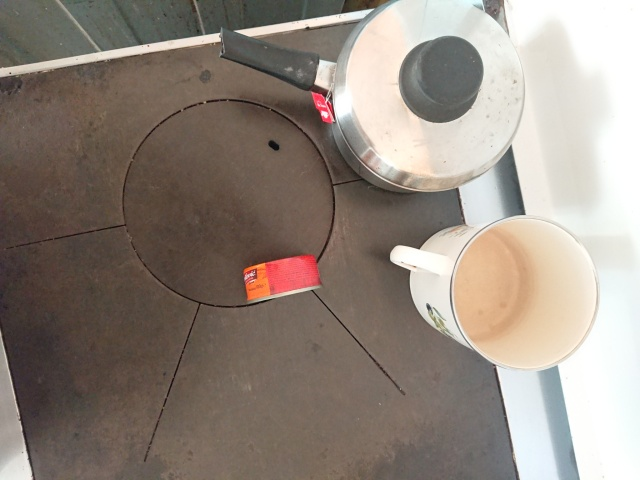Gavrilovic Pork Liver Pate 100g: (240, 252, 326, 305)
